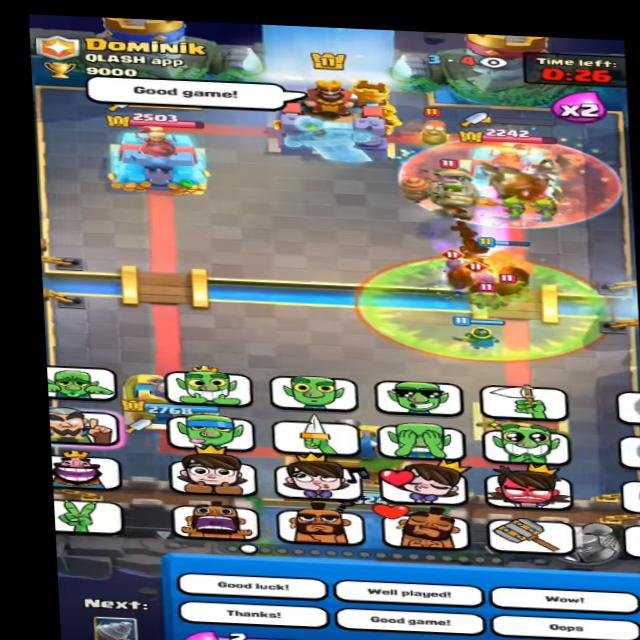bomber: (405, 105, 457, 148)
evo-skeleton: (436, 247, 474, 278)
goblin-curse: (349, 255, 612, 368)
goblin-machine: (404, 158, 503, 222)
